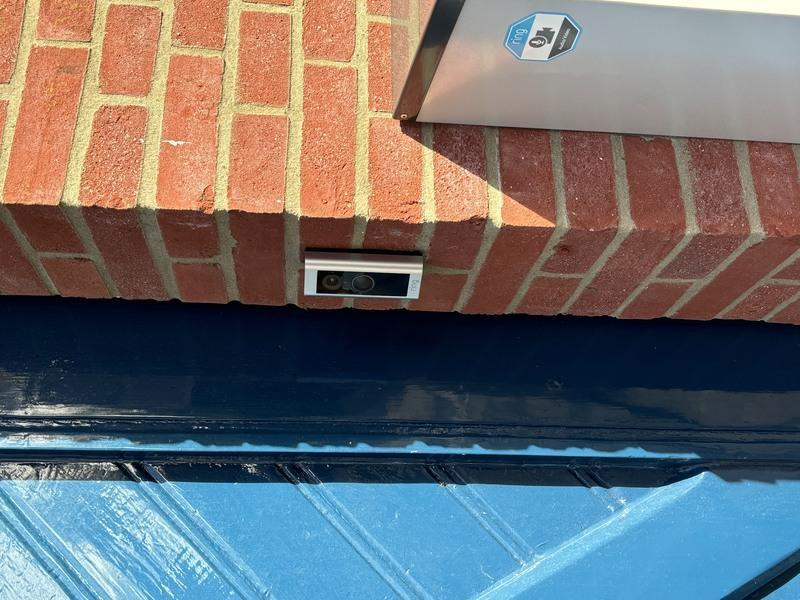doorbell: (297, 291, 350, 429)
